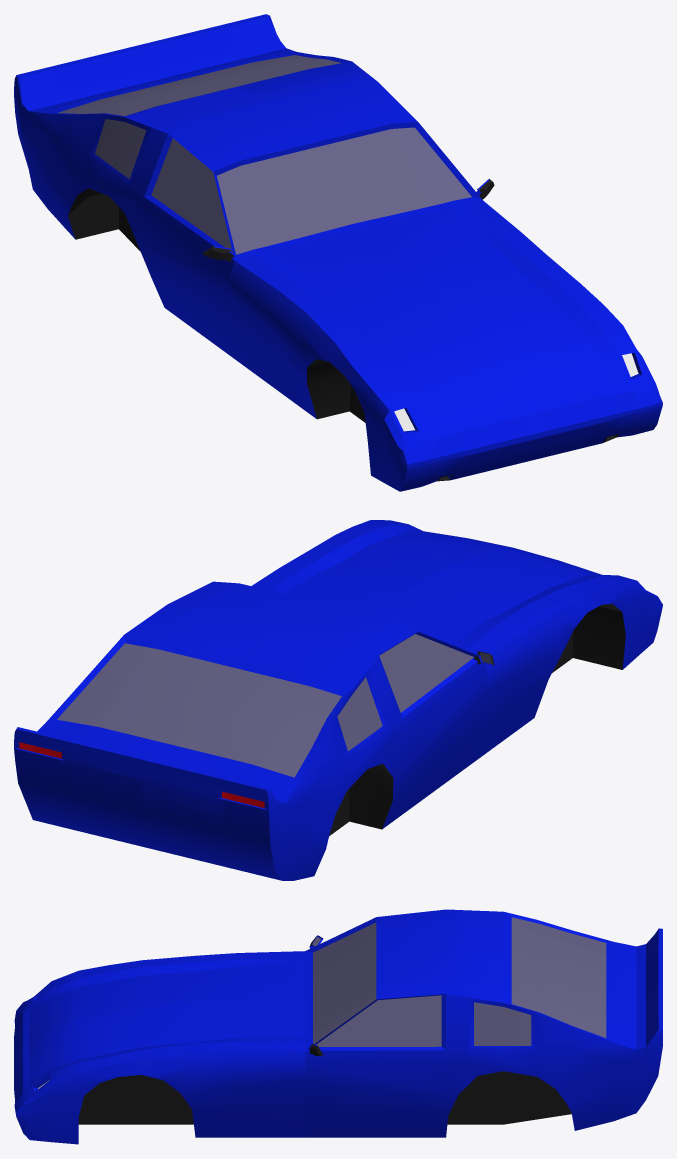
The model's file is CarV1-FixedParts.fbx.
The picture shows the model from 3 angles, top to bottom: view 1: azimuth 30°, elevation 25°; view 2: azimuth 150°, elevation 25°; view 3: azimuth 270°, elevation 25°; orthographic projection. The views are drawn at different scales.
Visible parts, largest first — view 1: Hood, WindowF, QuarterPanelFR, Top, CarR, BumberF, CarL, DoorR, QuarterPanelBR, WindowsR, QarterPanelFL, WindowB; view 2: BumberB, WindowB, Top, Hood, QuarterPanelFR, DoorR, CarR, QuarterPanelBR, WindowsR, CarL, QarterPanelFL; view 3: Hood, QarterPanelFL, DoorL, CarL, QuarterPanelBL, Top, WindowB, WindowsL, CarR, WindowF, QuarterPanelFR, BumberF.
Boxes of the visible parts, bbox=[...] form: Hood: bbox=[270, 208, 615, 429]; WindowF: bbox=[217, 127, 471, 254]; QuarterPanelFR: bbox=[230, 255, 423, 491]; Top: bbox=[124, 61, 417, 171]; CarR: bbox=[16, 44, 437, 433]; BumberF: bbox=[400, 383, 641, 491]; CarL: bbox=[142, 14, 641, 411]; DoorR: bbox=[131, 127, 249, 369]; QuarterPanelBR: bbox=[14, 75, 150, 239]; WindowsR: bbox=[95, 119, 232, 252]; QarterPanelFL: bbox=[463, 200, 662, 435]; WindowB: bbox=[58, 55, 341, 115]; BumberB: bbox=[14, 729, 281, 880]; WindowB: bbox=[57, 643, 341, 777]; Top: bbox=[124, 581, 417, 695]; Hood: bbox=[285, 531, 601, 644]; QuarterPanelFR: bbox=[464, 575, 662, 766]; DoorR: bbox=[368, 631, 487, 829]; CarR: bbox=[141, 575, 625, 836]; QuarterPanelBR: bbox=[266, 669, 389, 880]; WindowsR: bbox=[337, 634, 473, 751]; CarL: bbox=[16, 524, 422, 761]; QarterPanelFL: bbox=[251, 520, 407, 590]; Hood: bbox=[29, 964, 305, 1080]; QarterPanelFL: bbox=[14, 1041, 305, 1144]; DoorL: bbox=[305, 994, 467, 1137]; CarL: bbox=[29, 979, 662, 1124]; QuarterPanelBL: bbox=[466, 997, 662, 1130]; Top: bbox=[376, 909, 511, 1003]; WindowB: bbox=[511, 917, 606, 1037]; WindowsL: bbox=[316, 995, 531, 1046]; CarR: bbox=[29, 912, 662, 1009]; WindowF: bbox=[313, 922, 376, 1043]; QuarterPanelFR: bbox=[16, 951, 305, 1012]; BumberF: bbox=[14, 997, 33, 1103].
Size of the model in its own units: 202 by 117 by 475.
